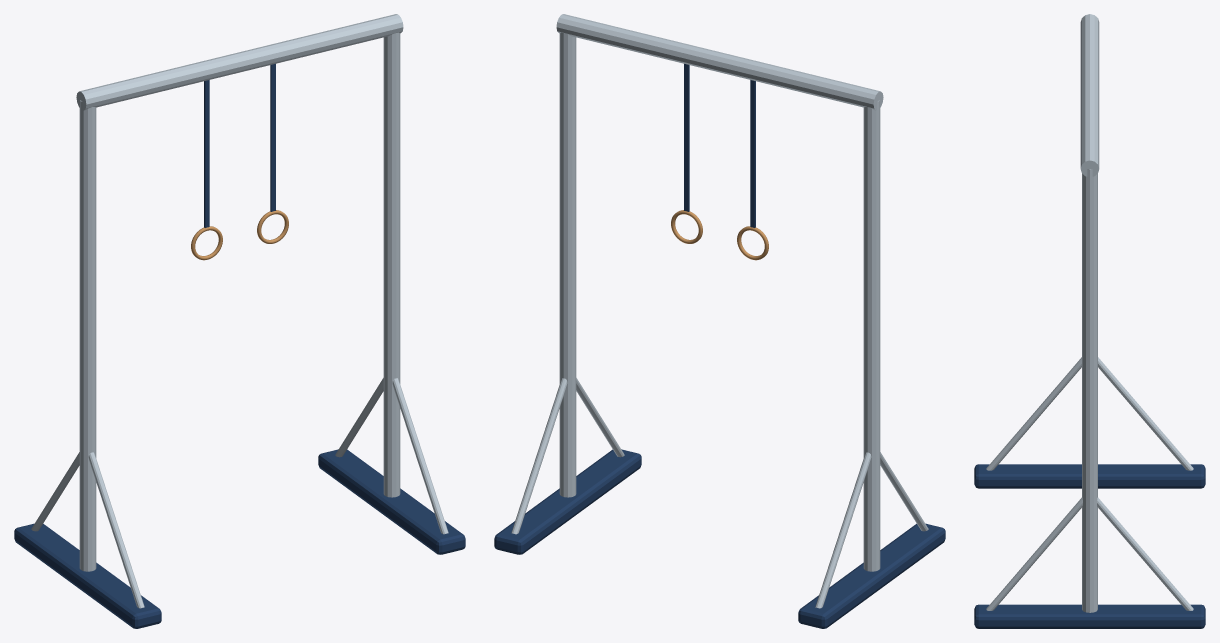
The model's file is rings.glb.
The picture shows the model from 3 angles, left to right: view 1: azimuth 30°, elevation 25°; view 2: azimuth 150°, elevation 25°; view 3: azimuth 270°, elevation 25°; orthographic projection. The views are drawn at different scales.
Visible parts, largest first — view 1: rings; view 2: rings; view 3: rings.
Part boxes in pixels (x1,y1,x2,y2): rings: (14, 14, 465, 628); rings: (494, 14, 945, 628); rings: (974, 14, 1205, 628).
Size of the model in its own units: 2.52 by 3.57 by 1.6.
